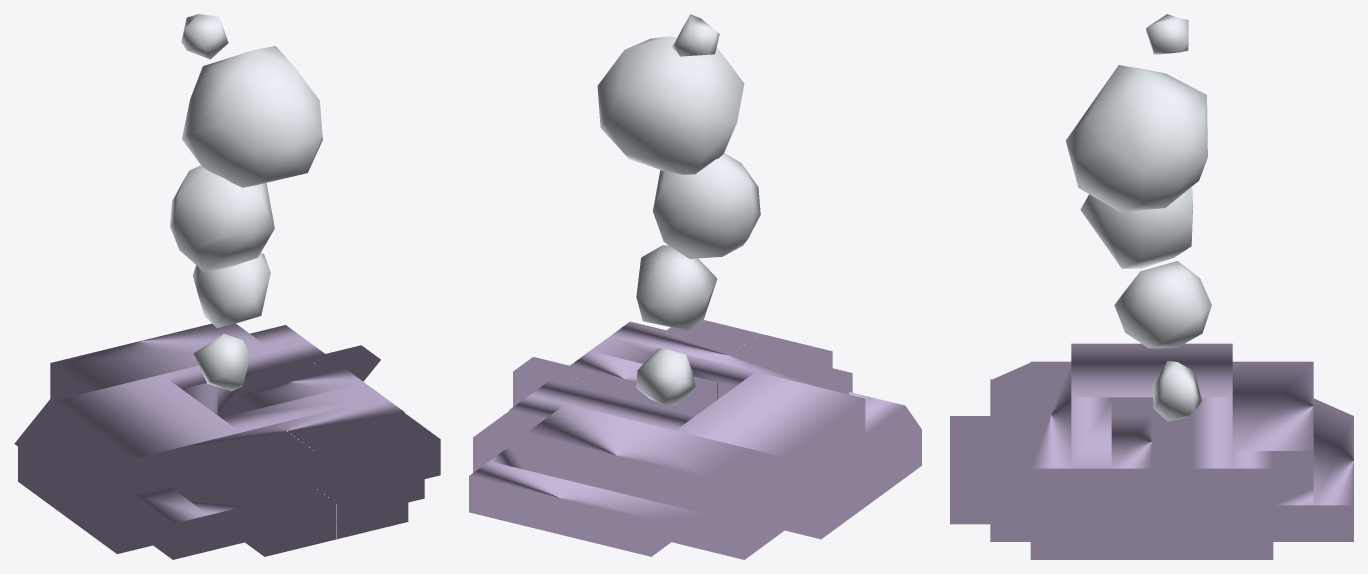
Rendered from steam-vent-pixor-blocky_lod1.glb.
The picture shows the model from 3 angles, left to right: view 1: azimuth 30°, elevation 25°; view 2: azimuth 150°, elevation 25°; view 3: azimuth 270°, elevation 25°; orthographic projection.
Parts seen in each view (by area): view 1: Vent rim, Steam; view 2: Vent rim, Steam; view 3: Vent rim, Steam.
Part boxes in pixels (bbox=[...]): Vent rim: bbox=[14, 323, 440, 559]; Steam: bbox=[170, 14, 322, 391]; Vent rim: bbox=[469, 320, 921, 559]; Steam: bbox=[597, 14, 760, 405]; Vent rim: bbox=[950, 343, 1353, 559]; Steam: bbox=[1065, 14, 1211, 421].
Size of the model in its own units: 0.9637 by 1.28 by 1.02.
